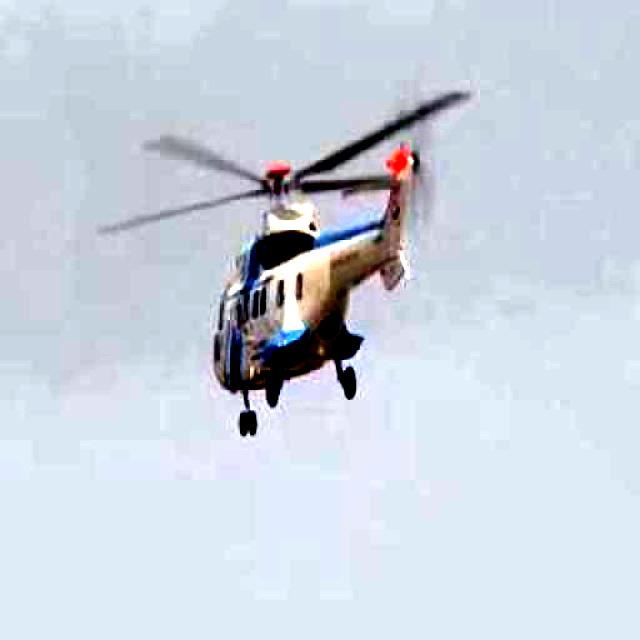drone: (51, 51, 535, 449)
